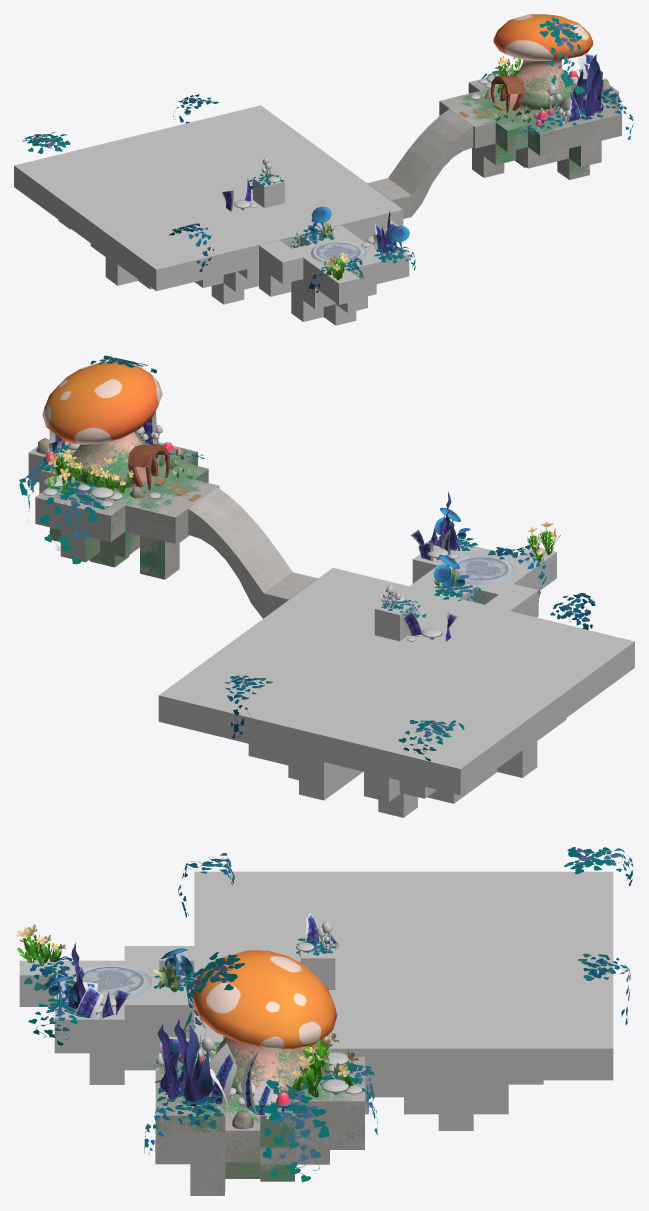
The model's file is Ending_enter.FBX.
3 views of the same model, one above another, from view 1: azimuth 30°, elevation 25°; view 2: azimuth 150°, elevation 25°; view 3: azimuth 270°, elevation 25° (orthographic). The views are drawn at different scales.
Visible parts, largest first — view 1: Box001, Box006, Box011, Ending_ncl1_2, Box008, Box012, Ending_ncl1_78, Plane_04, Box003, Ending_ncl1_3, Plane272, N_Plane161; view 2: Box001, Ending_ncl1_2, Box011, Box008, Box006, Box012, Ending_ncl1_81, Plane_04, Ending_ncl1_3, Box003, Plane272, N_Plane161 (+1 smaller); view 3: Box001, Ending_ncl1_2, Box006, Box011, Box012, Ending_ncl1_82, Plane_04, Ending_ncl1_78, Ending_ncl1_79, Ending_ncl1_128, Plane272, Box003 (+9 smaller).
Boxes of the visible parts, left/top/right/bottom form: Box001: left=14, top=105, right=403, bottom=304; Box006: left=259, top=225, right=409, bottom=325; Box011: left=439, top=82, right=621, bottom=179; Ending_ncl1_2: left=493, top=14, right=593, bottom=110; Box008: left=367, top=108, right=473, bottom=218; Box012: left=440, top=78, right=621, bottom=133; Ending_ncl1_78: left=539, top=17, right=583, bottom=94; Plane_04: left=311, top=241, right=366, bottom=264; Box003: left=252, top=173, right=284, bottom=207; Ending_ncl1_3: left=490, top=75, right=524, bottom=112; Plane272: left=22, top=132, right=70, bottom=153; N_Plane161: left=169, top=223, right=214, bottom=271; Box001: left=158, top=568, right=634, bottom=817; Ending_ncl1_2: left=42, top=361, right=162, bottom=487; Box011: left=28, top=452, right=219, bottom=579; Box008: left=188, top=487, right=317, bottom=618; Box006: left=409, top=538, right=556, bottom=617; Box012: left=28, top=442, right=218, bottom=517; Ending_ncl1_81: left=39, top=479, right=105, bottom=564; Plane_04: left=450, top=555, right=514, bottom=584; Ending_ncl1_3: left=128, top=444, right=170, bottom=490; Box003: left=374, top=599, right=414, bottom=641; Plane272: left=398, top=720, right=464, bottom=760; N_Plane161: left=550, top=593, right=595, bottom=629; Box001: left=194, top=871, right=613, bottom=1130; Ending_ncl1_2: left=192, top=950, right=337, bottom=1094; Box006: left=19, top=946, right=194, bottom=1084; Box011: left=155, top=1099, right=364, bottom=1195; Box012: left=155, top=1033, right=364, bottom=1130; Ending_ncl1_82: left=248, top=1080, right=329, bottom=1182; Plane_04: left=70, top=965, right=152, bottom=998; Ending_ncl1_78: left=171, top=952, right=244, bottom=1051; Ending_ncl1_79: left=144, top=1095, right=223, bottom=1154; Ending_ncl1_128: left=208, top=1043, right=237, bottom=1104; Plane272: left=564, top=847, right=633, bottom=886; Box003: left=300, top=943, right=335, bottom=989.
Size of the model in its own units: 7655 by 3473 by 5869.
